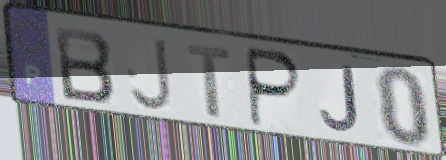0: (369, 63, 435, 150)
B: (52, 23, 118, 105)
J: (127, 36, 175, 114), (317, 64, 363, 135)
P: (246, 45, 305, 131)
T: (185, 43, 234, 121)
